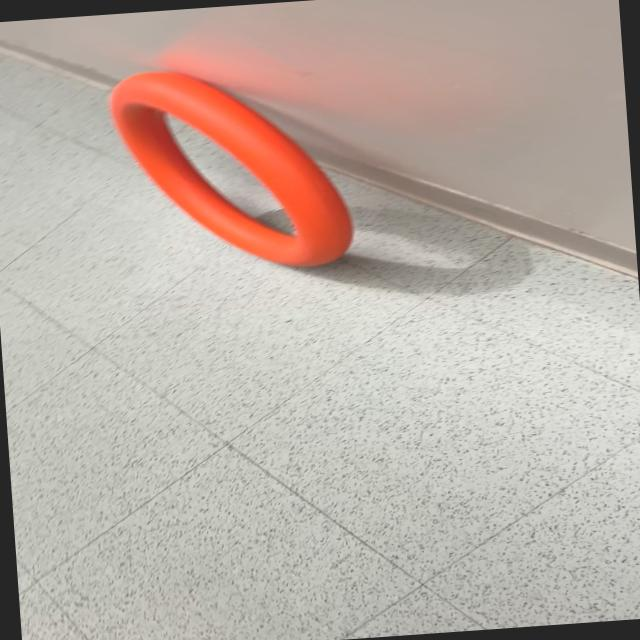note: (104, 56, 358, 282)
